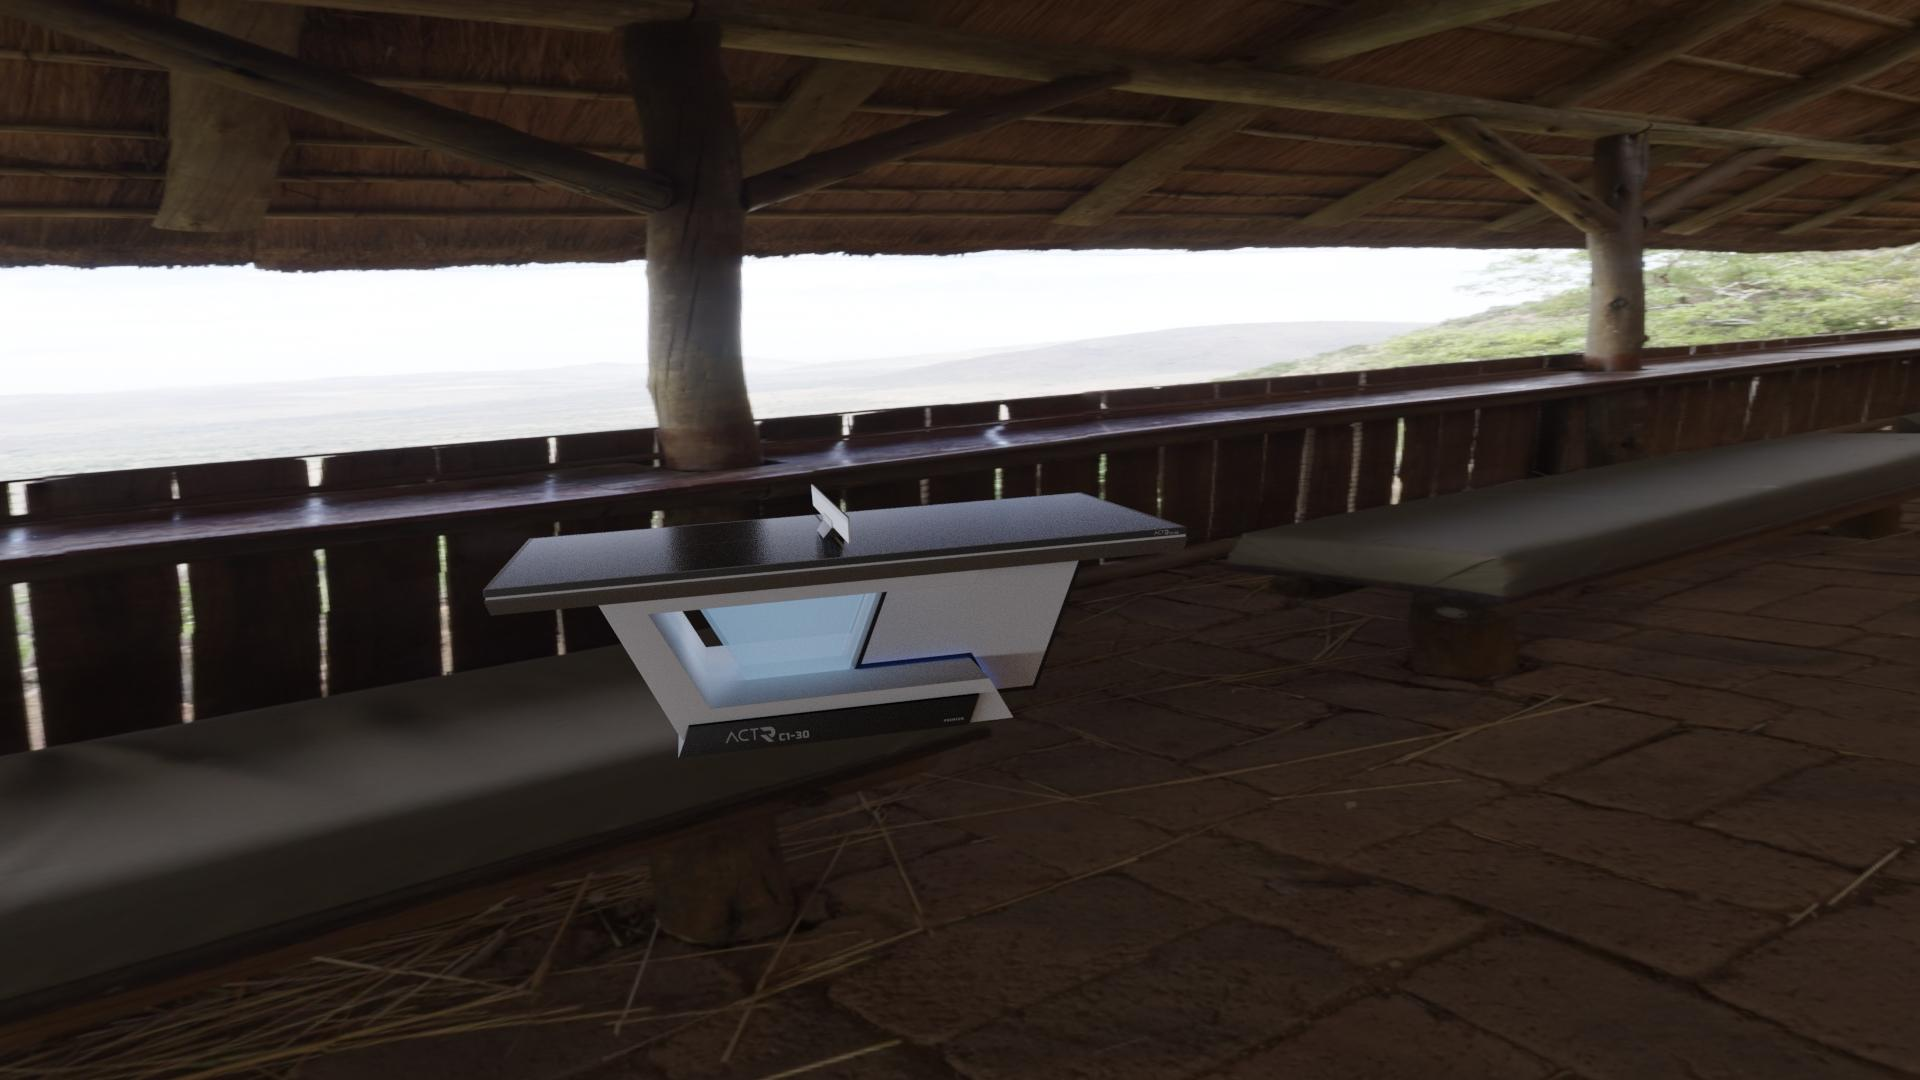table: (489, 493, 1180, 588)
